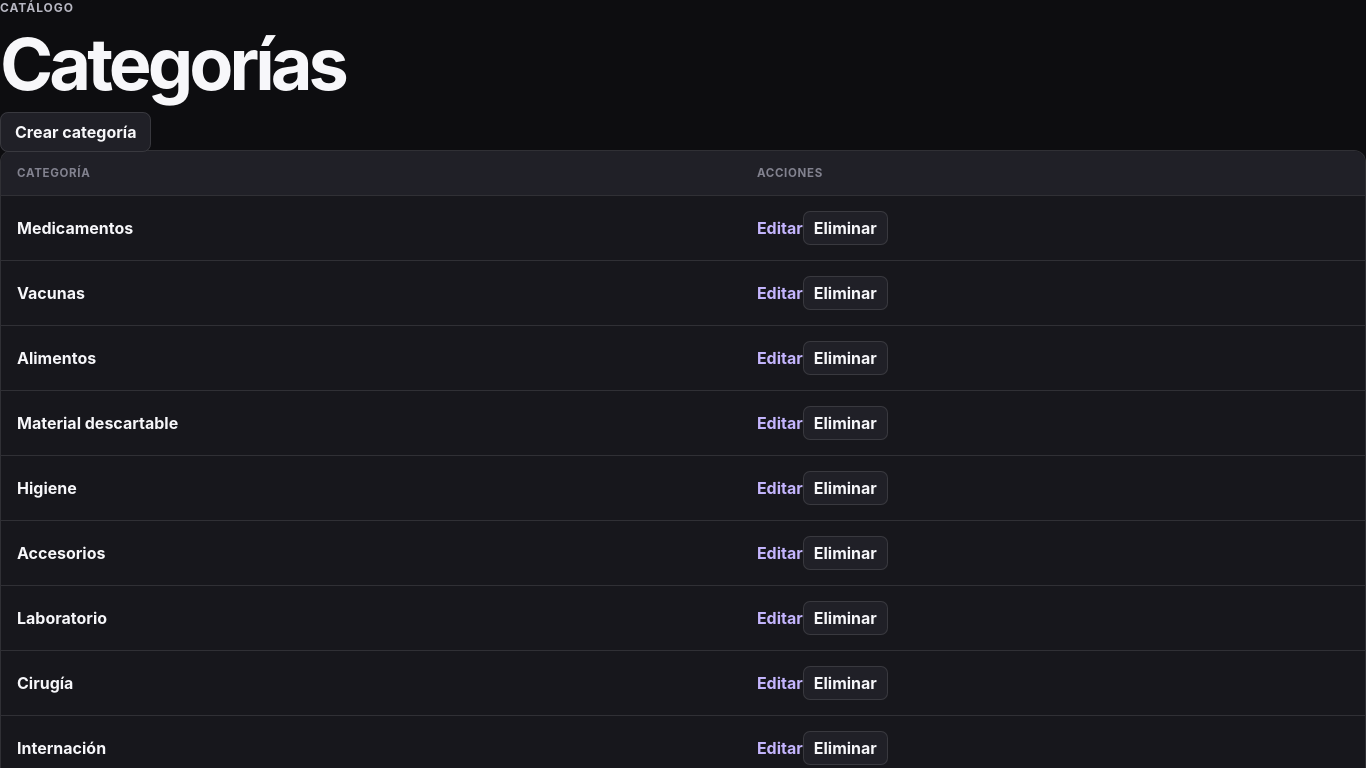
Test: CategoryPage › blocks deletion with the exact invoice-line reference count
Click the button "Eliminar" in the row of "Medicamentos" at x=845, y=228, box [803,211,888,245]
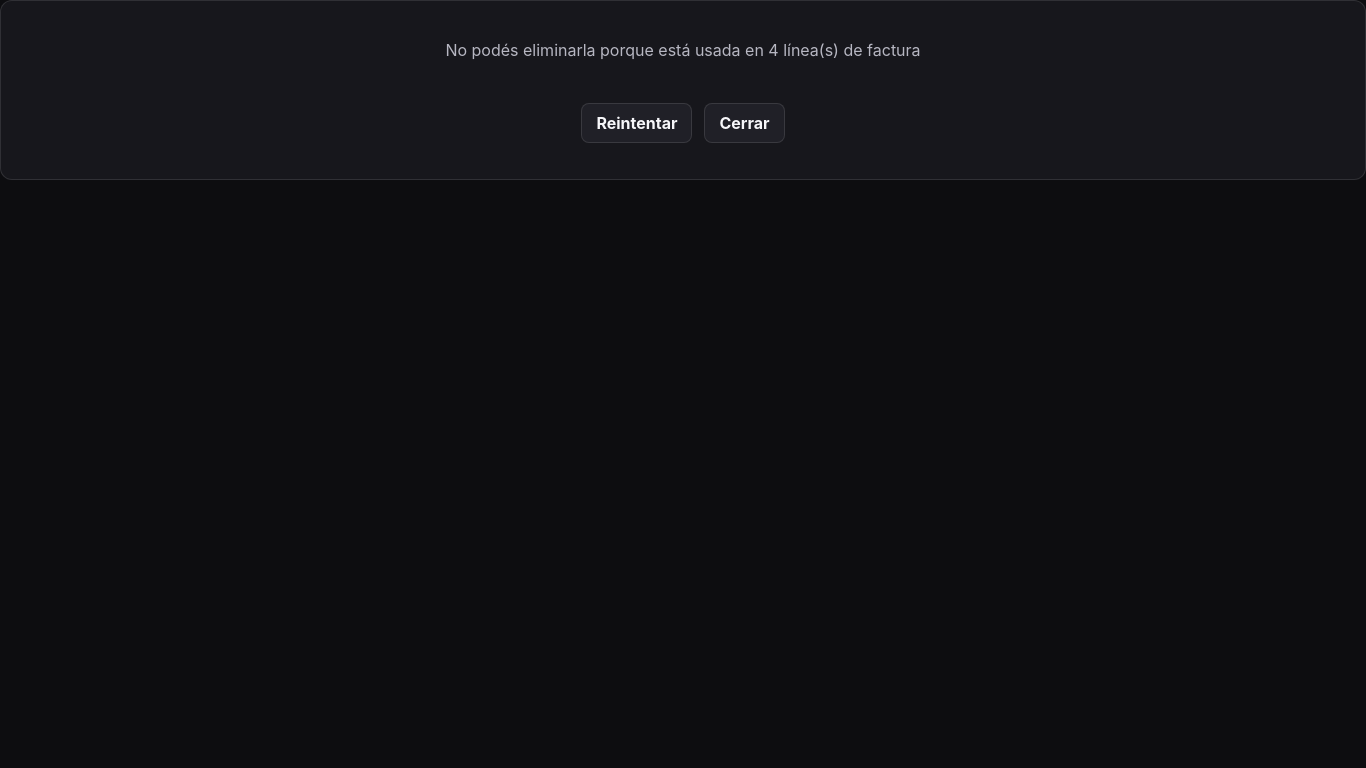
Now the message shows "No podés eliminarla porque está usada en 4 línea(s) de factura", box [445,40,921,60]
